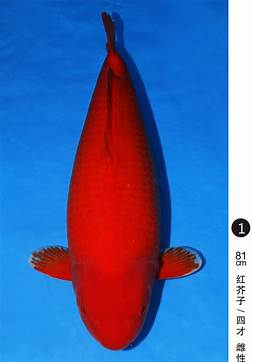red: (29, 11, 204, 352)
